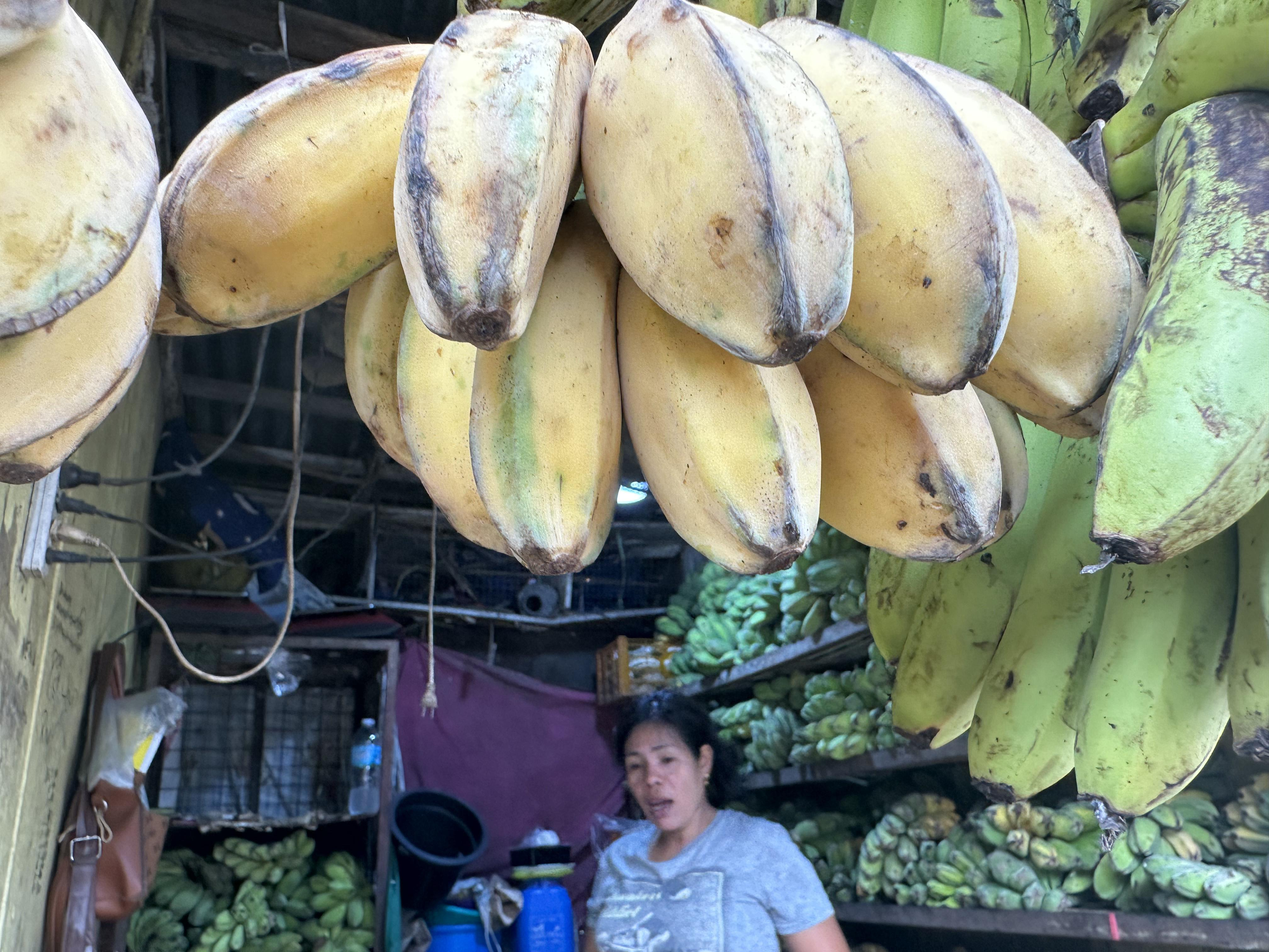ripe: (0, 0, 162, 484)
underripe: (155, 0, 1144, 574)
